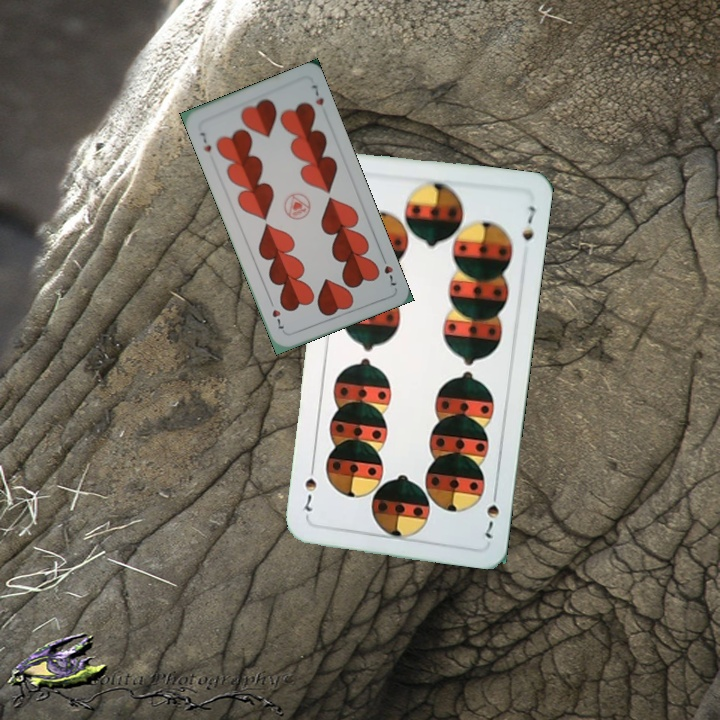H7: (377, 251, 399, 288), (195, 128, 214, 154)
S7: (481, 484, 502, 541)
